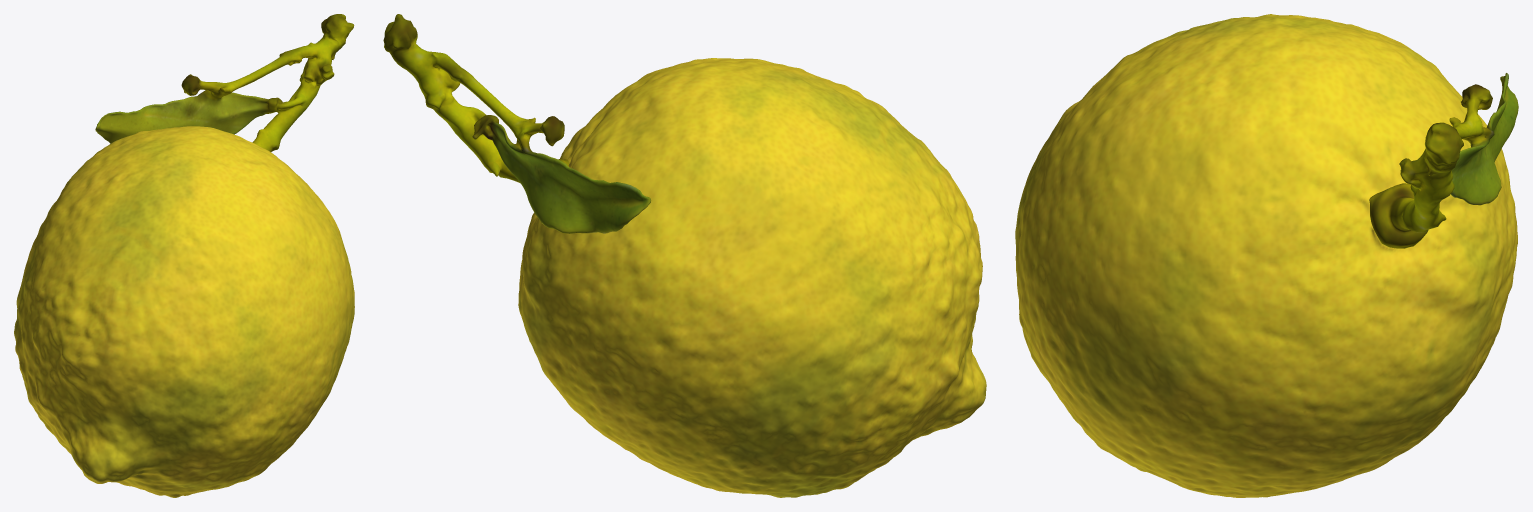
3 views of the same model, side by side, from view 1: azimuth 30°, elevation 25°; view 2: azimuth 150°, elevation 25°; view 3: azimuth 270°, elevation 25° (orthographic). The views are drawn at different scales.
Parts seen in each view (by area): view 1: Pulp, Stem; view 2: Pulp, Stem; view 3: Pulp, Stem.
Boxes of the visible parts, bbox=[...] form: Pulp: bbox=[14, 126, 354, 497]; Stem: bbox=[95, 14, 354, 151]; Pulp: bbox=[518, 58, 986, 497]; Stem: bbox=[383, 14, 650, 233]; Pulp: bbox=[1015, 14, 1517, 497]; Stem: bbox=[1369, 73, 1518, 248].
Size of the model in its own units: 2.23 by 2 by 1.78.
Materials: 1 (1 with a texture image).
